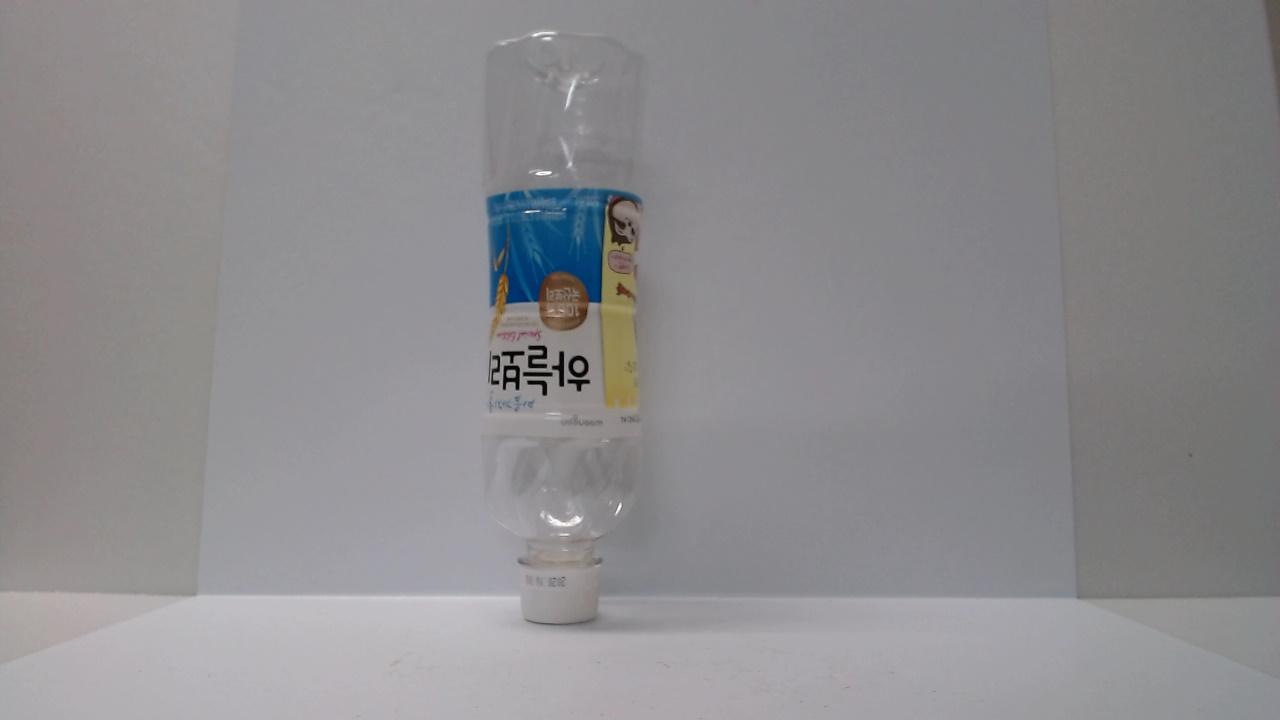bottle: (409, 311, 667, 362)
